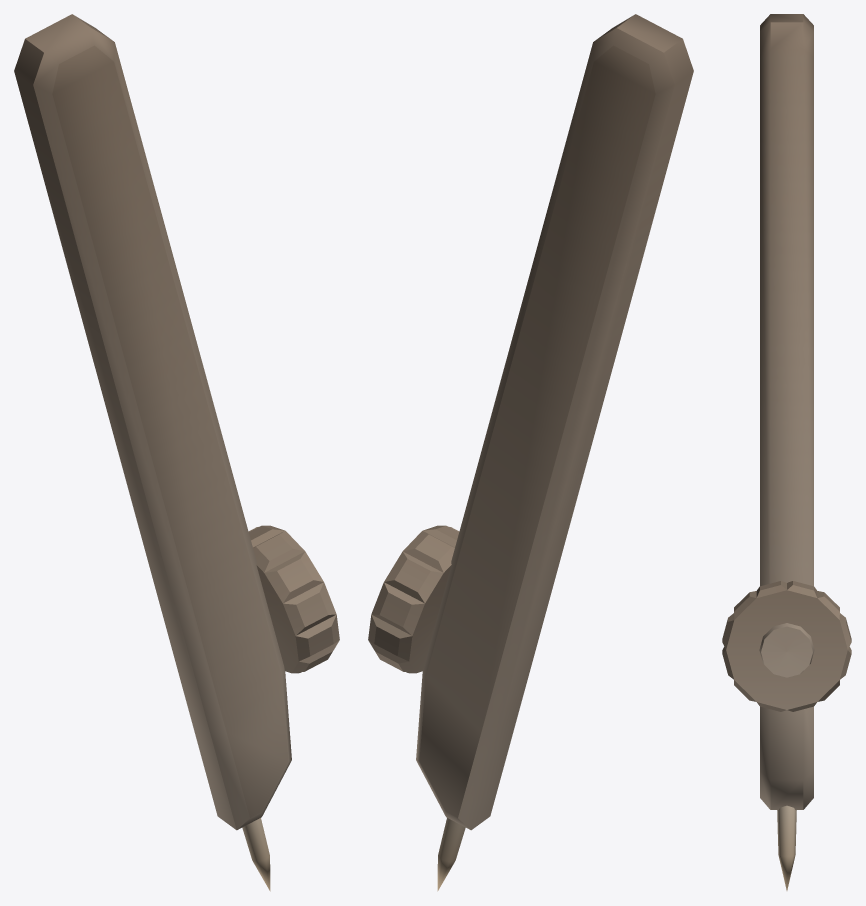
The model's file is drafting_compass_legLeft.glb.
The picture shows the model from 3 angles, left to right: view 1: azimuth 30°, elevation 25°; view 2: azimuth 150°, elevation 25°; view 3: azimuth 270°, elevation 25°; orthographic projection. The views are drawn at different scales.
Parts seen in each view (by area): view 1: drafting_compass_legLeft; view 2: drafting_compass_legLeft; view 3: drafting_compass_legLeft.
Boxes of the visible parts, x1=… form: drafting_compass_legLeft: x1=14, y1=14, x2=339, y2=891; drafting_compass_legLeft: x1=368, y1=14, x2=693, y2=891; drafting_compass_legLeft: x1=722, y1=14, x2=851, y2=890.
Bounding box in the file's own units: 0.2127 × 0.6306 × 0.0933.
1 material, 1 textured.
